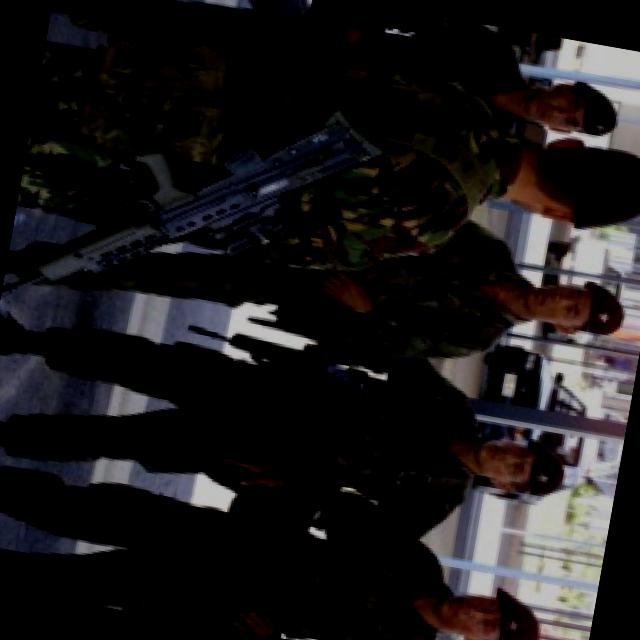long weapon: (6, 55, 358, 366)
